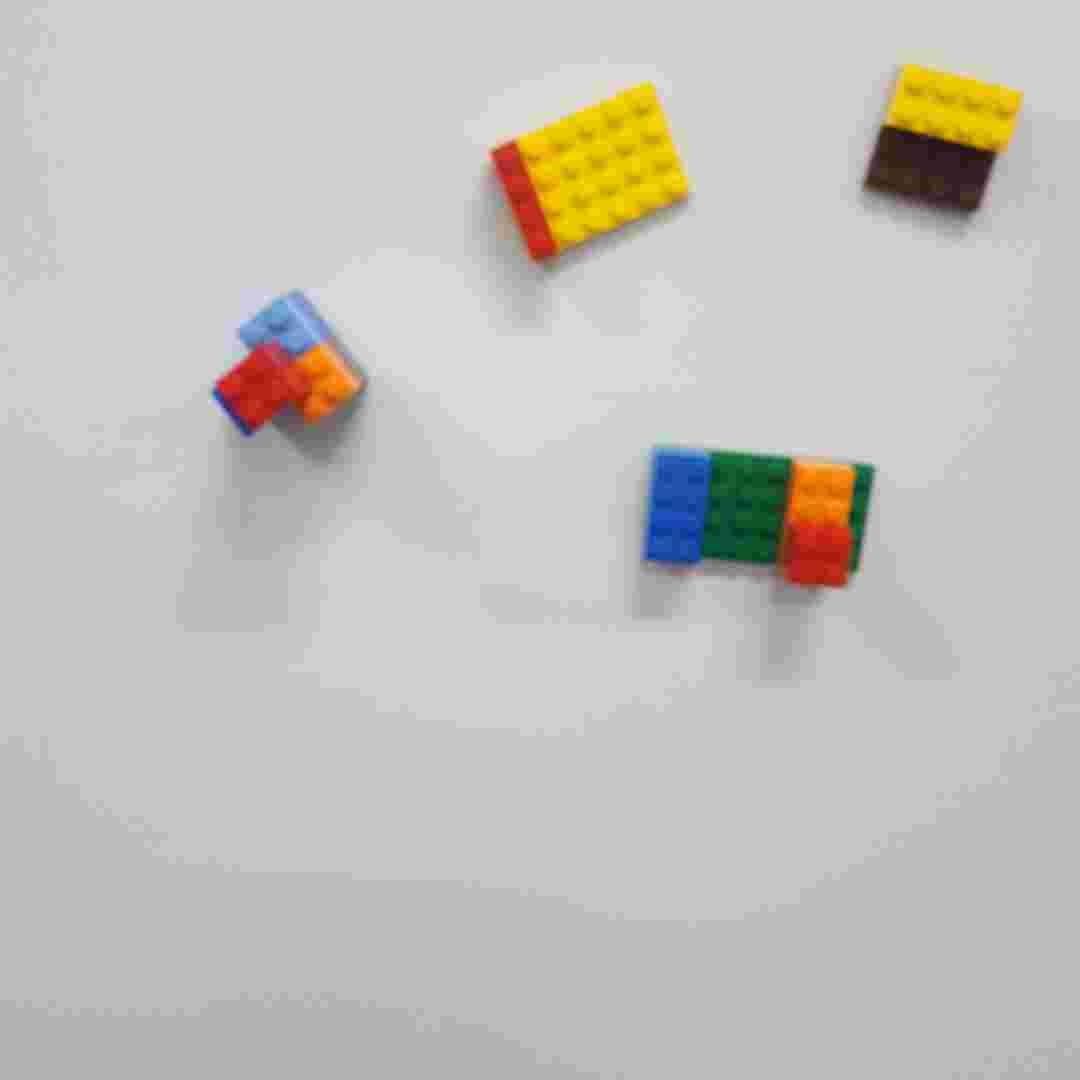LEGO: (482, 75, 703, 274), (641, 441, 879, 593), (864, 57, 1024, 220), (206, 288, 373, 437)
